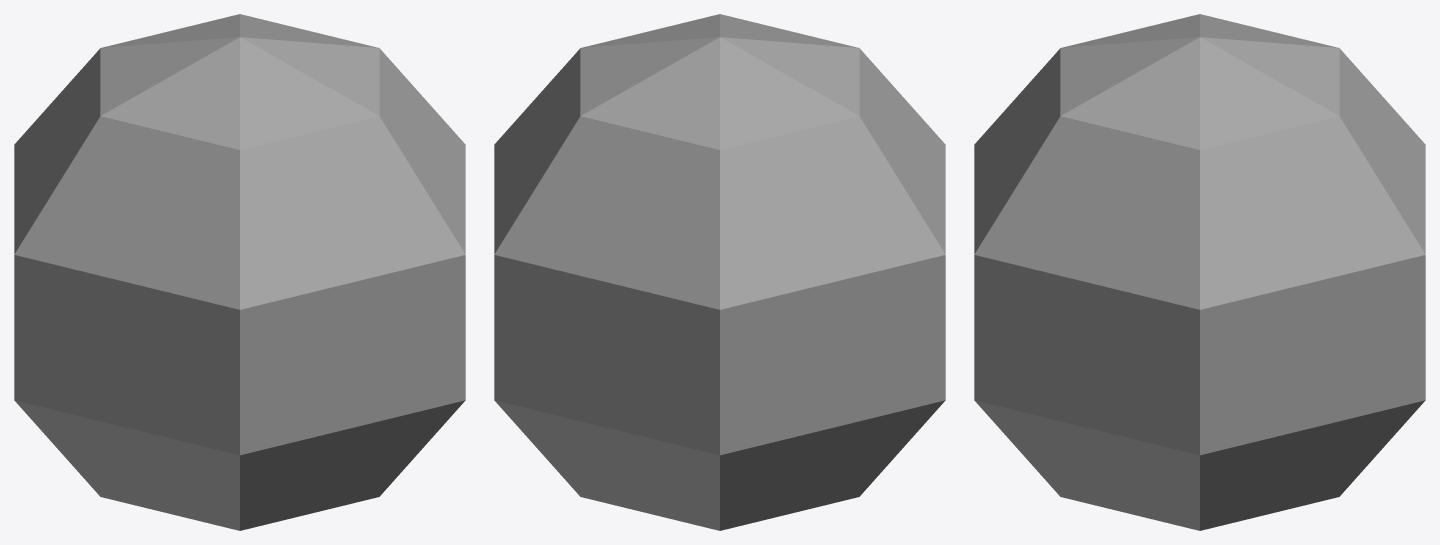
The model's file is arc0_28.glb.
3 renders of one model, left to right at view 1: azimuth 30°, elevation 25°; view 2: azimuth 150°, elevation 25°; view 3: azimuth 270°, elevation 25°, orthographic.
Parts seen in each view (by area): view 1: arc0_28; view 2: arc0_28; view 3: arc0_28.
Boxes of the visible parts, x1,y1,x2,y2 form: arc0_28: (14, 14, 465, 530); arc0_28: (494, 14, 945, 530); arc0_28: (974, 14, 1425, 530).
Size of the model in its own units: 28.25 by 28.15 by 24.47.
1 material, 1 textured.
